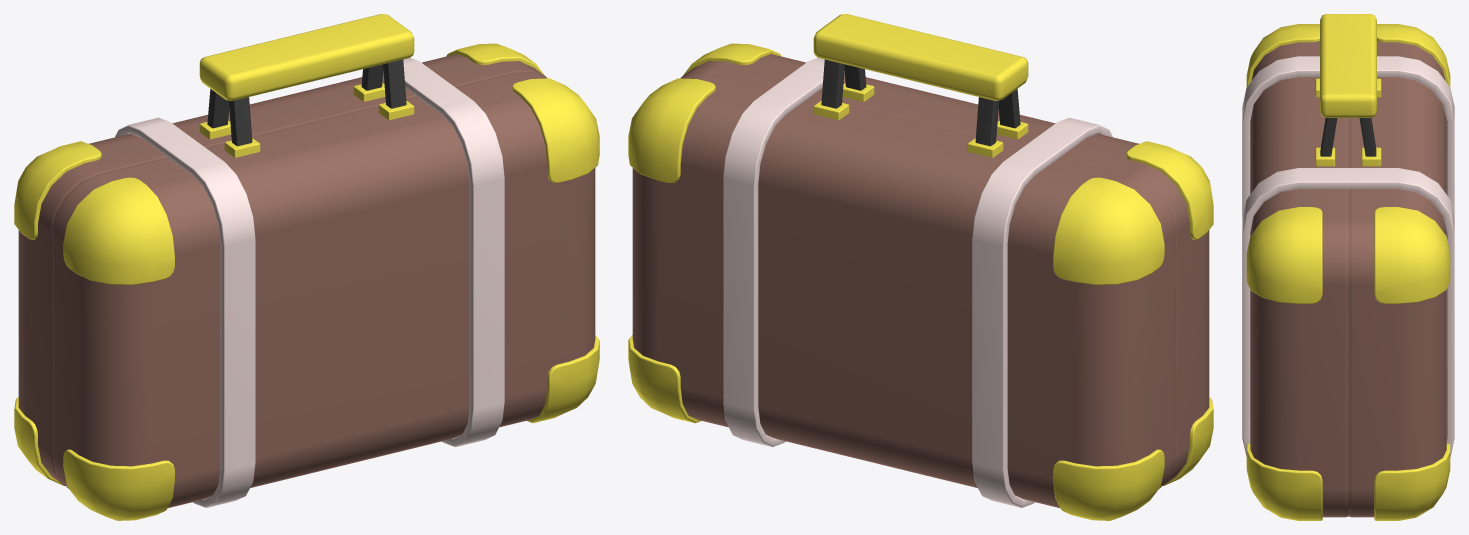
File: Public_7_Suitcase_1.glb
The picture shows the model from 3 angles, left to right: view 1: azimuth 30°, elevation 25°; view 2: azimuth 150°, elevation 25°; view 3: azimuth 270°, elevation 25°; orthographic projection. The views are drawn at different scales.
Visible parts, largest first — view 1: Public_7_Suitcase_1; view 2: Public_7_Suitcase_1; view 3: Public_7_Suitcase_1.
Boxes of the visible parts, x1,y1,x2,y2 form: Public_7_Suitcase_1: (14, 14, 599, 520); Public_7_Suitcase_1: (628, 14, 1213, 520); Public_7_Suitcase_1: (1242, 14, 1454, 520).
Bounding box in the file's own units: 1.02 × 0.7625 × 0.3942.
Materials: 1 (1 with a texture image).
